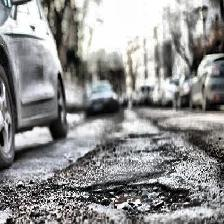pothole: (82, 170, 190, 218)
